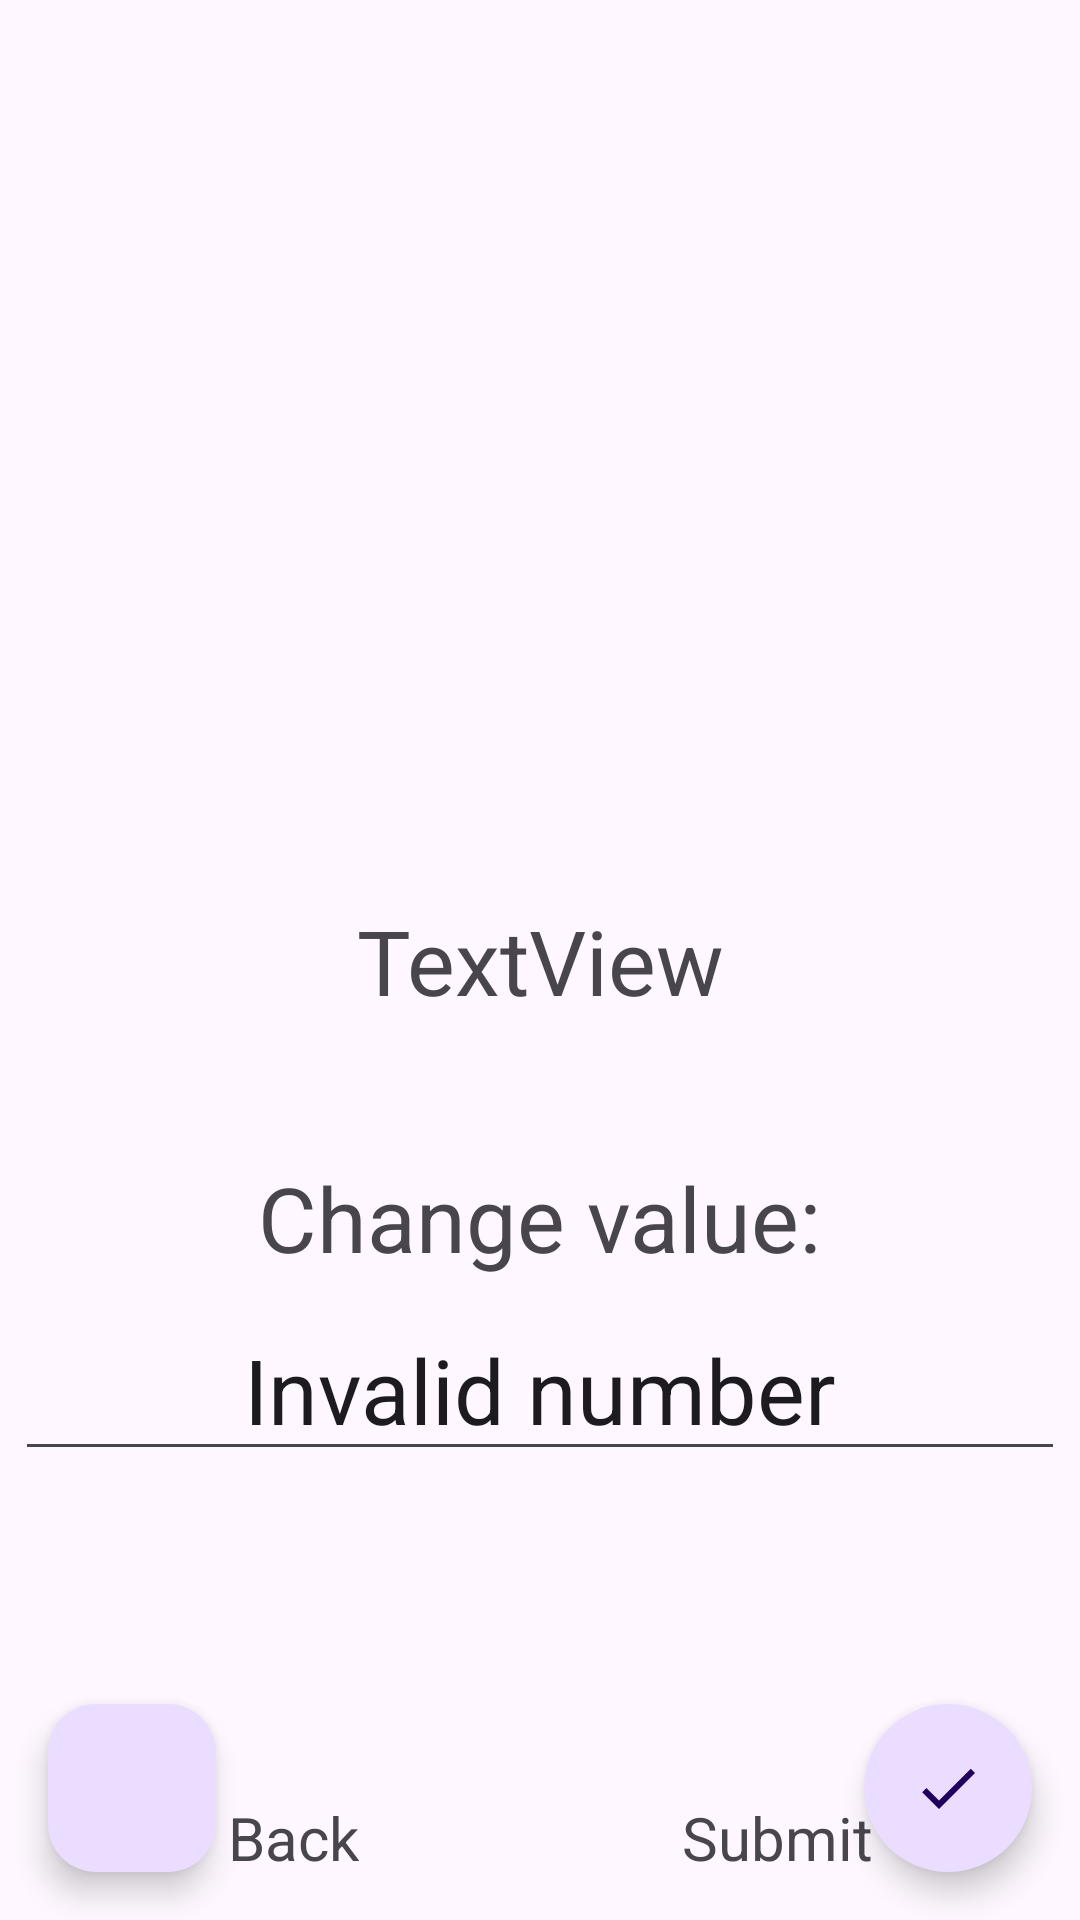

Icons on this 1080 × 1920 Android screen, each with the point to tap as (x,y):
done: (948,1788)
